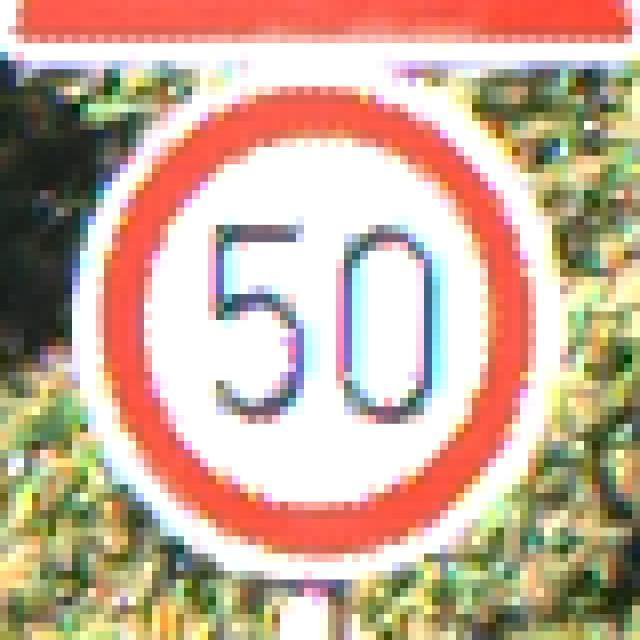Ograniczenie predkosci do 50: (96, 89, 529, 548)
